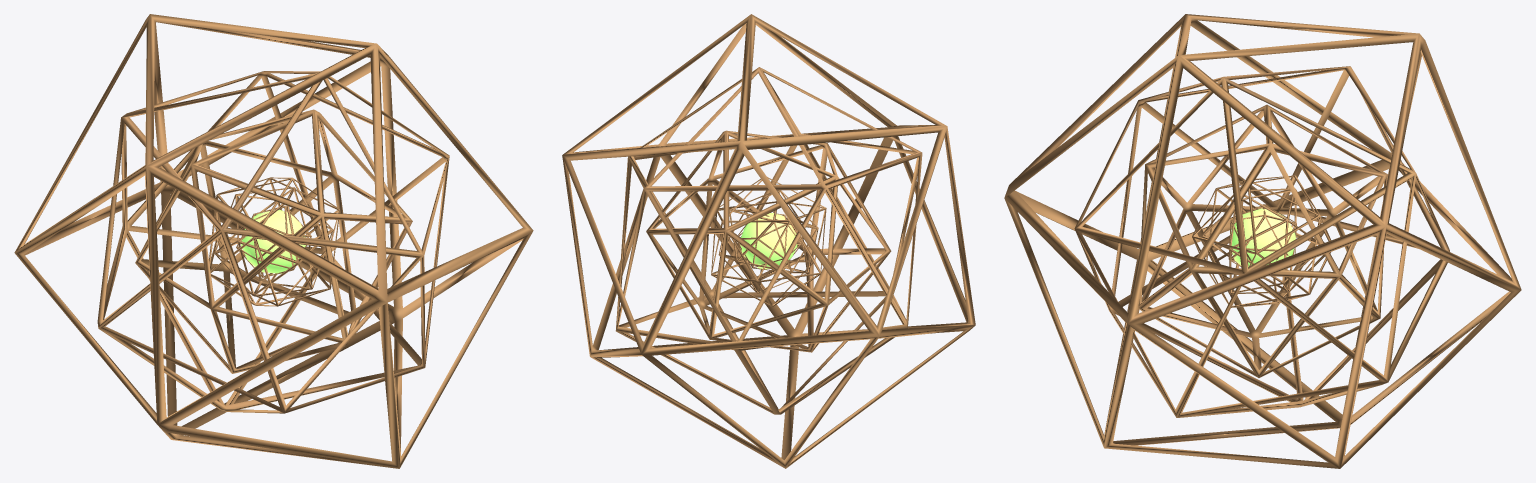
The model's file is dyson_sphere_new_2.fbx.
3 views of the same model, side by side, from view 1: azimuth 30°, elevation 25°; view 2: azimuth 150°, elevation 25°; view 3: azimuth 270°, elevation 25° (orthographic). The views are drawn at different scales.
Parts seen in each view (by area): view 1: Icosphere.002, Icosphere.001, Icosphere.007, Icosphere.004, Icosphere.005, Icosphere.003, Icosphere.006; view 2: Icosphere.002, Icosphere.001, Icosphere.007, Icosphere.004, Icosphere.003, Icosphere.005, Icosphere.006; view 3: Icosphere.002, Icosphere.001, Icosphere.007, Icosphere.004, Icosphere.005, Icosphere.003, Icosphere.006.
Boxes of the visible parts, x1,y1,x2,y2 form: Icosphere.002: (14, 14, 533, 468); Icosphere.001: (97, 71, 449, 413); Icosphere.007: (135, 109, 412, 373); Icosphere.004: (209, 177, 339, 306); Icosphere.005: (214, 187, 333, 296); Icosphere.003: (241, 209, 305, 273); Icosphere.006: (236, 205, 311, 277); Icosphere.002: (562, 14, 975, 468); Icosphere.001: (615, 67, 922, 414); Icosphere.007: (646, 130, 891, 352); Icosphere.004: (711, 177, 826, 306); Icosphere.003: (740, 213, 797, 269); Icosphere.005: (718, 190, 818, 293); Icosphere.006: (738, 211, 801, 271); Icosphere.002: (1004, 14, 1521, 468); Icosphere.001: (1074, 66, 1449, 417); Icosphere.007: (1138, 104, 1387, 377); Icosphere.004: (1192, 175, 1331, 307); Icosphere.005: (1201, 188, 1318, 294); Icosphere.003: (1231, 208, 1295, 266); Icosphere.006: (1228, 204, 1296, 278).
Size of the model in its own units: 532 by 563 by 610.
